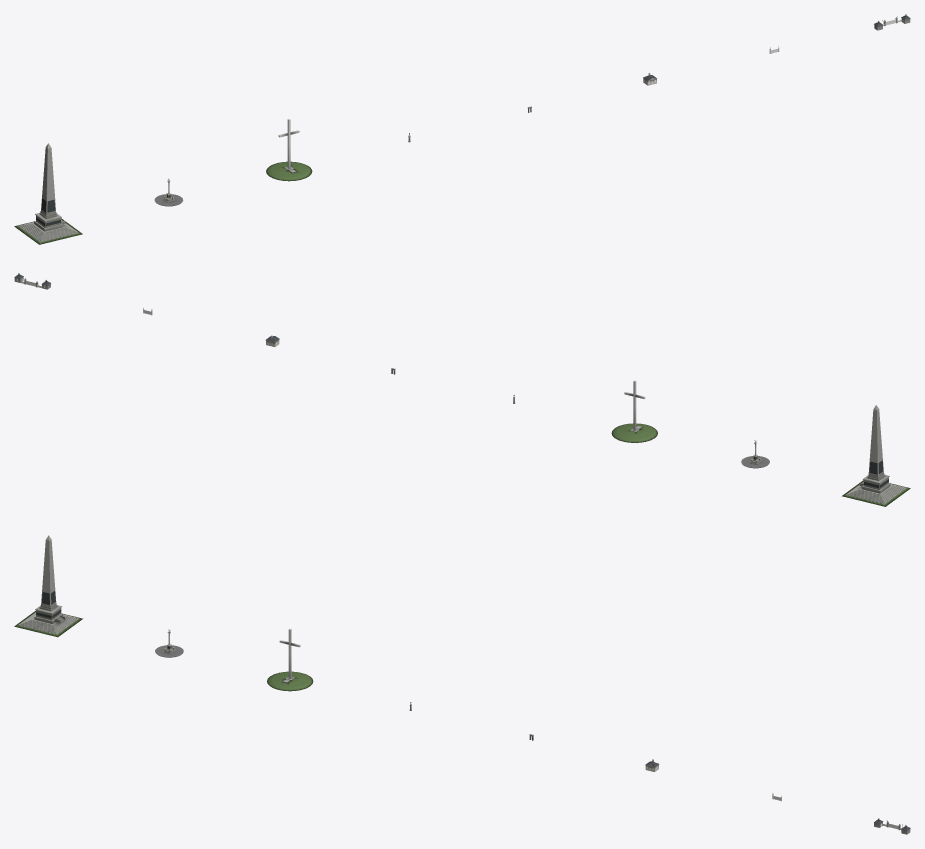
Rendered from phoenixpark.glb.
The picture shows the model from 3 angles, top to bottom: view 1: azimuth 30°, elevation 25°; view 2: azimuth 150°, elevation 25°; view 3: azimuth 330°, elevation 25°; orthographic projection.
Parts seen in each view (by area): view 1: wellington_granite, papalcross_grass; view 2: wellington_granite, papalcross_grass; view 3: wellington_granite, papalcross_grass.
Boxes of the visible parts, x1=… form: wellington_granite: x1=19, y1=143, x2=78, y2=241; papalcross_grass: x1=266, y1=161, x2=312, y2=181; wellington_granite: x1=846, y1=405, x2=905, y2=503; papalcross_grass: x1=611, y1=423, x2=657, y2=442; wellington_granite: x1=19, y1=535, x2=78, y2=634; papalcross_grass: x1=267, y1=671, x2=313, y2=691.
Bounding box in the file's own units: 659 × 62.3 × 32.8.
